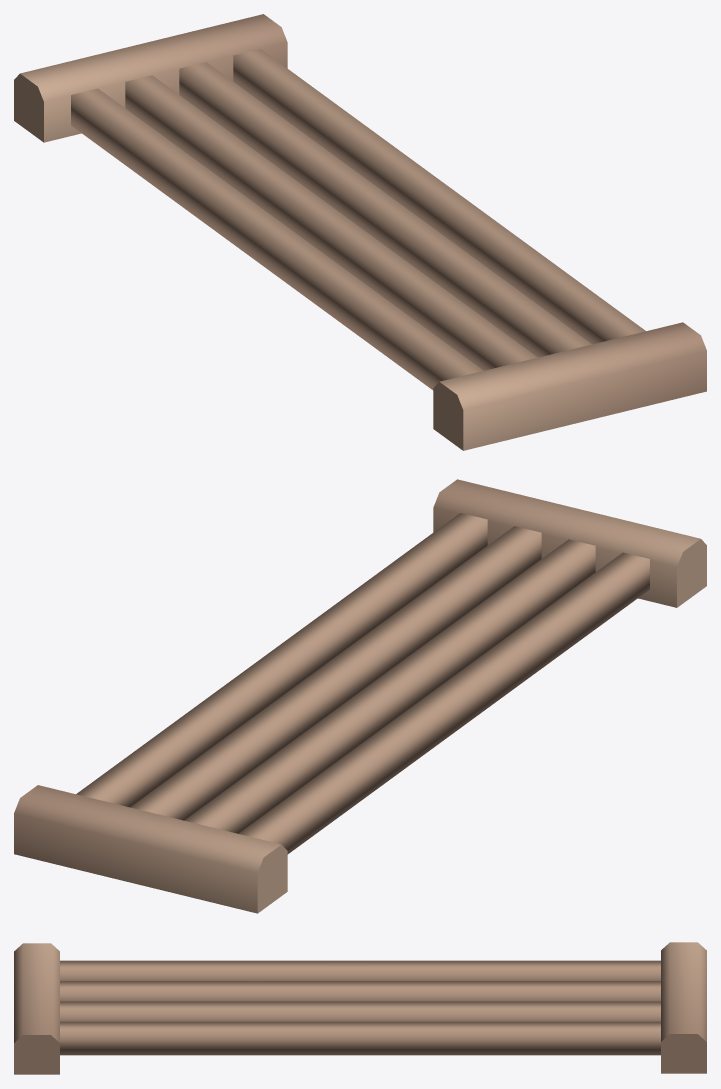
The model's file is bath-tray.glb.
The picture shows the model from 3 angles, top to bottom: view 1: azimuth 30°, elevation 25°; view 2: azimuth 150°, elevation 25°; view 3: azimuth 270°, elevation 25°; orthographic projection. The views are drawn at different scales.
Visible parts, largest first — view 1: bath-tray; view 2: bath-tray; view 3: bath-tray.
Boxes of the visible parts, x1,y1,x2,y2 form: bath-tray: (14,14,706,450); bath-tray: (14,479,706,913); bath-tray: (14,942,706,1074).
Bounding box in the file's own units: 0.2351 × 0.0488 × 0.7506.
